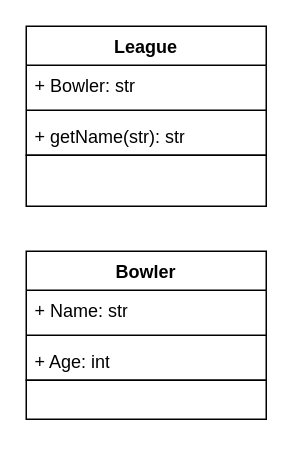
Some shapes in this 293 by 450 pixel diagram are drawn without their labels. Here are the shapes that lost their labels. From the top down, the centre of each, then its label:
At (145,180): "+ setName(str): str".
At (145,399): "+ Average: int".
